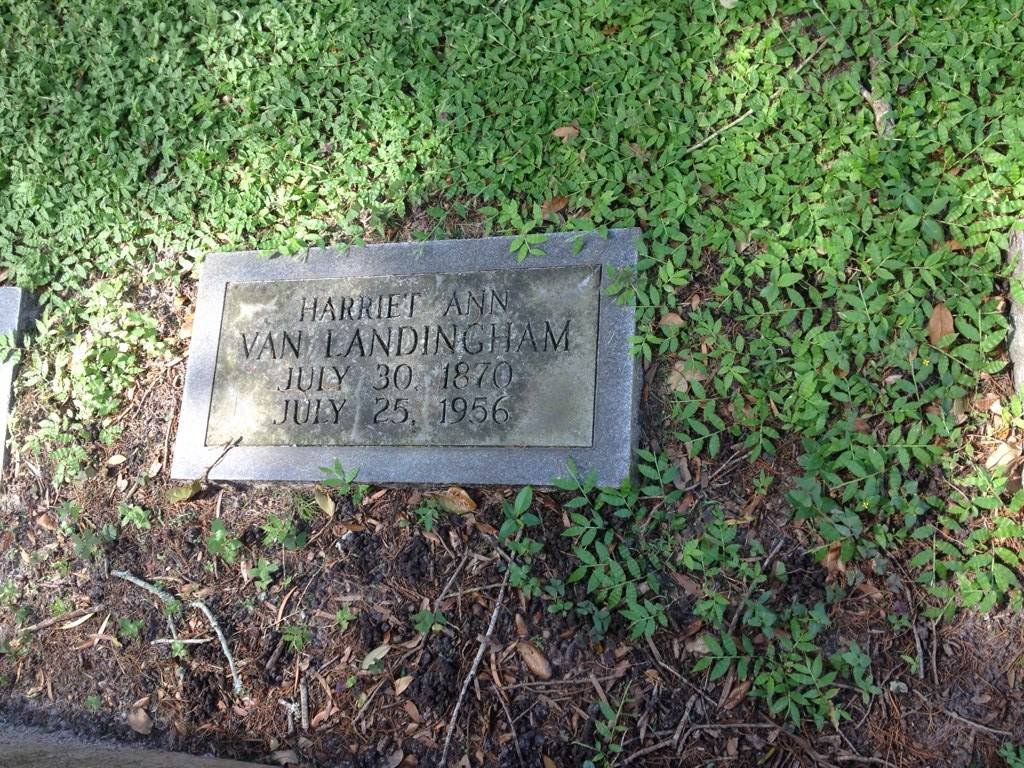flat: (164, 236, 634, 490)
